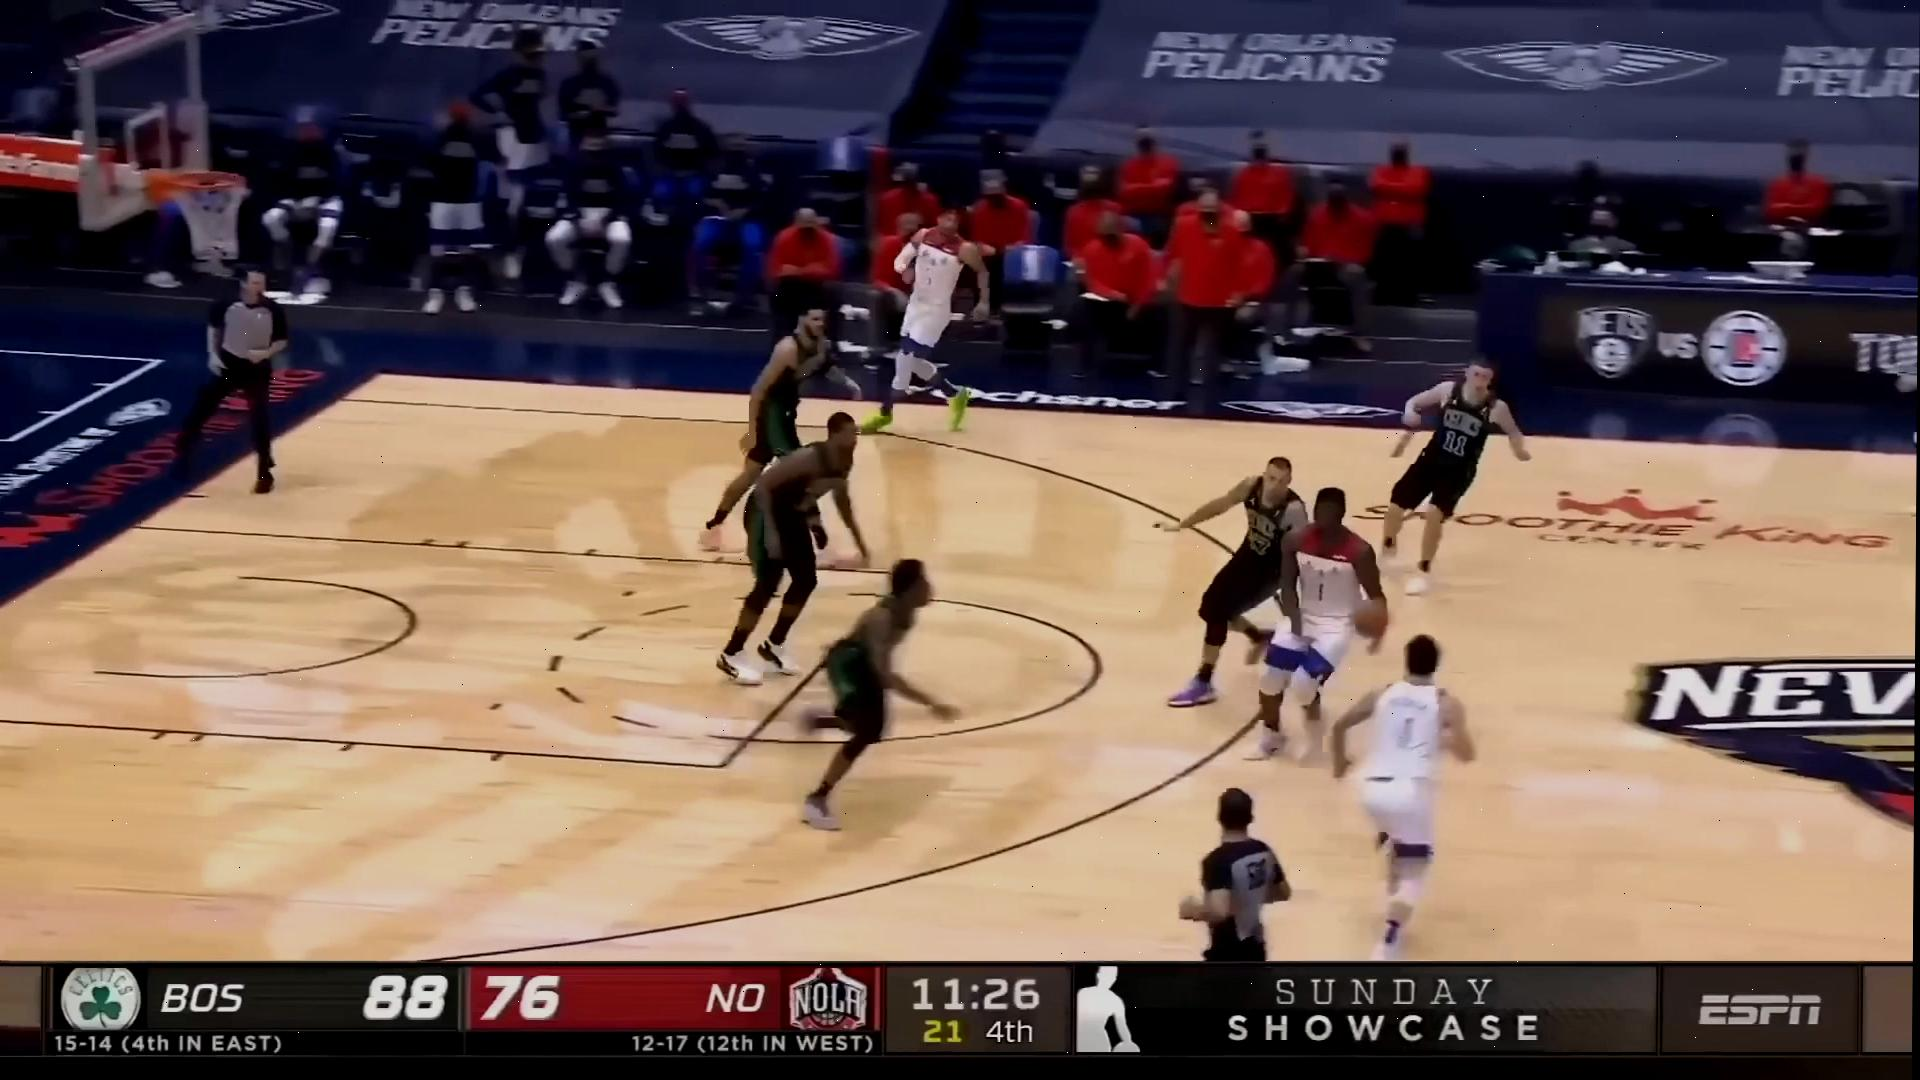no_foul: (1141, 449, 1379, 752)
